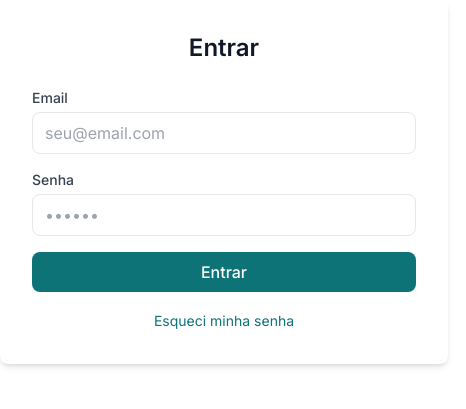
LoginForm › error clears on re-validation › removes error when field is corrected and blurred again
# Type invalid email and blur → error shows
Type "bad" into the field labelled "Email" at coordinates (224, 133), box [32, 112, 416, 154]
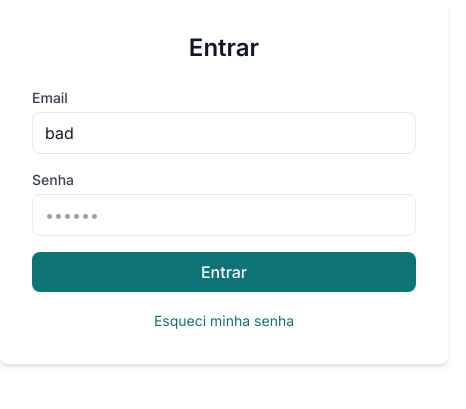
Leave the field labelled "Email", box [32, 112, 416, 154]
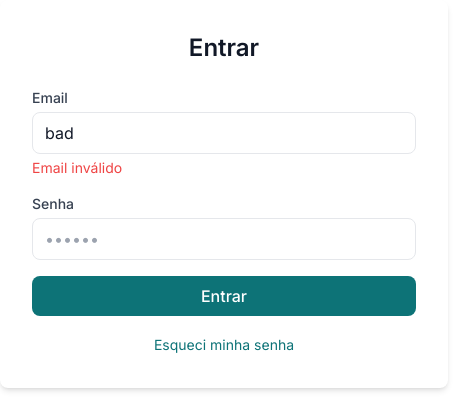
Expected: the text "Email inválido" is shown, [32, 159, 122, 176]
# Correct the email and blur → error disappears
Replace the text in the field labelled "Email" with "valid@email.com" at coordinates (224, 133), box [32, 112, 416, 154]
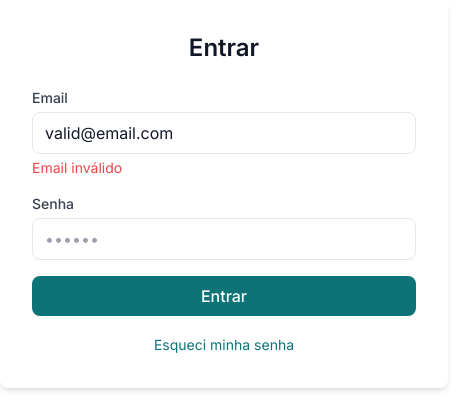
Leave the field labelled "Email", box [32, 112, 416, 154]
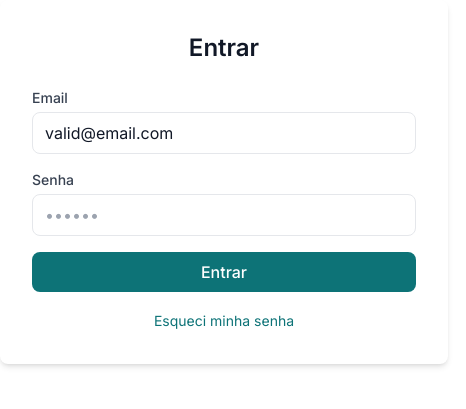
Expected: the text "Email inválido" is gone
